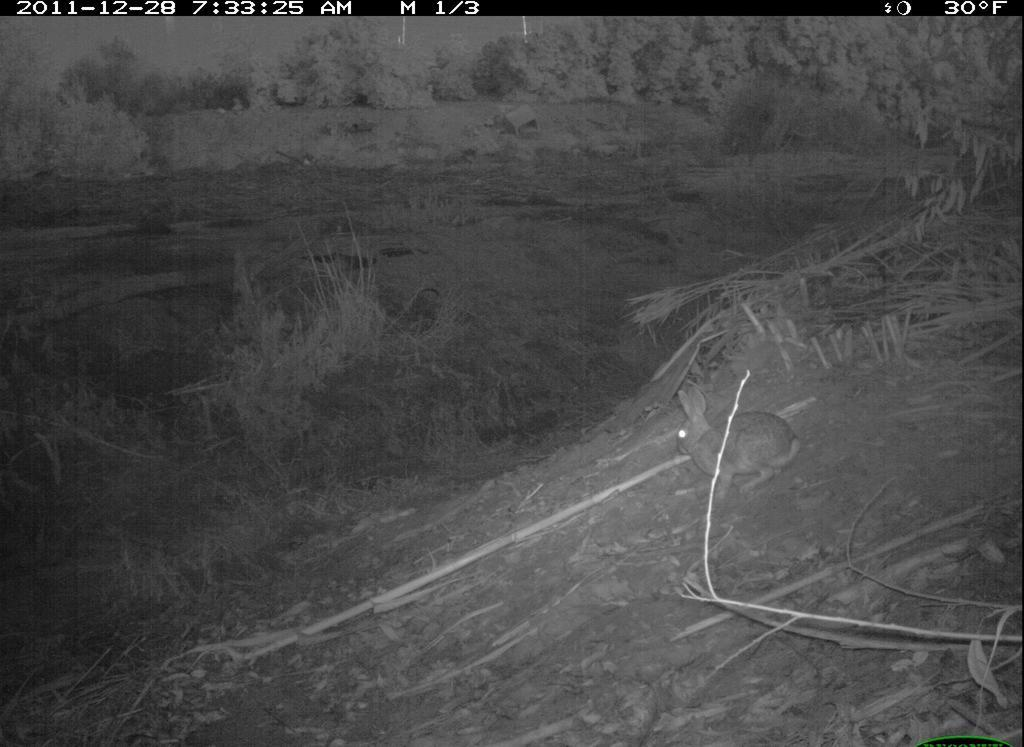rabbit: (657, 374, 809, 505)
